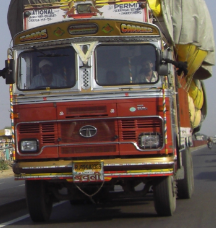truck: (10, 1, 205, 222)
